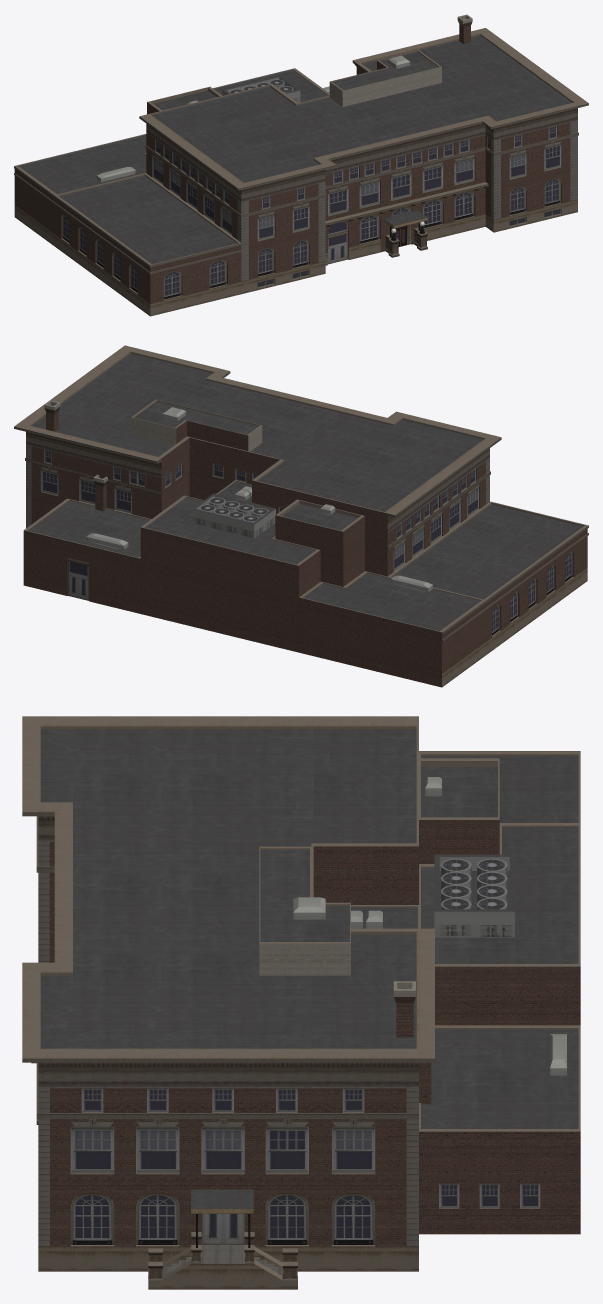
The model's file is office.glb.
3 views of the same model, one above another, from view 1: azimuth 30°, elevation 25°; view 2: azimuth 150°, elevation 25°; view 3: azimuth 270°, elevation 25° (orthographic). The views are drawn at different scales.
Bounding box in the file's own units: 30 × 8.49 × 16.21.
1 material, 1 textured.
